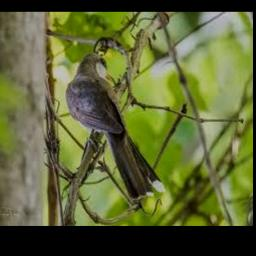Cuckoo: (65, 53, 167, 202)
